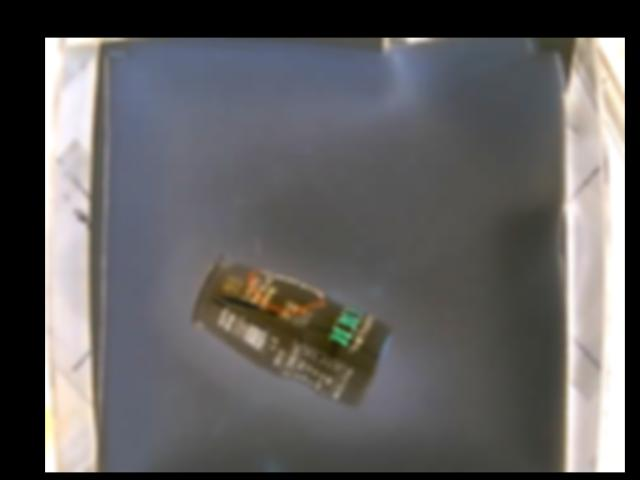Bottle: (190, 257, 392, 403)
